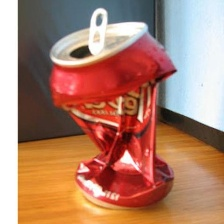can: (41, 5, 181, 210)
